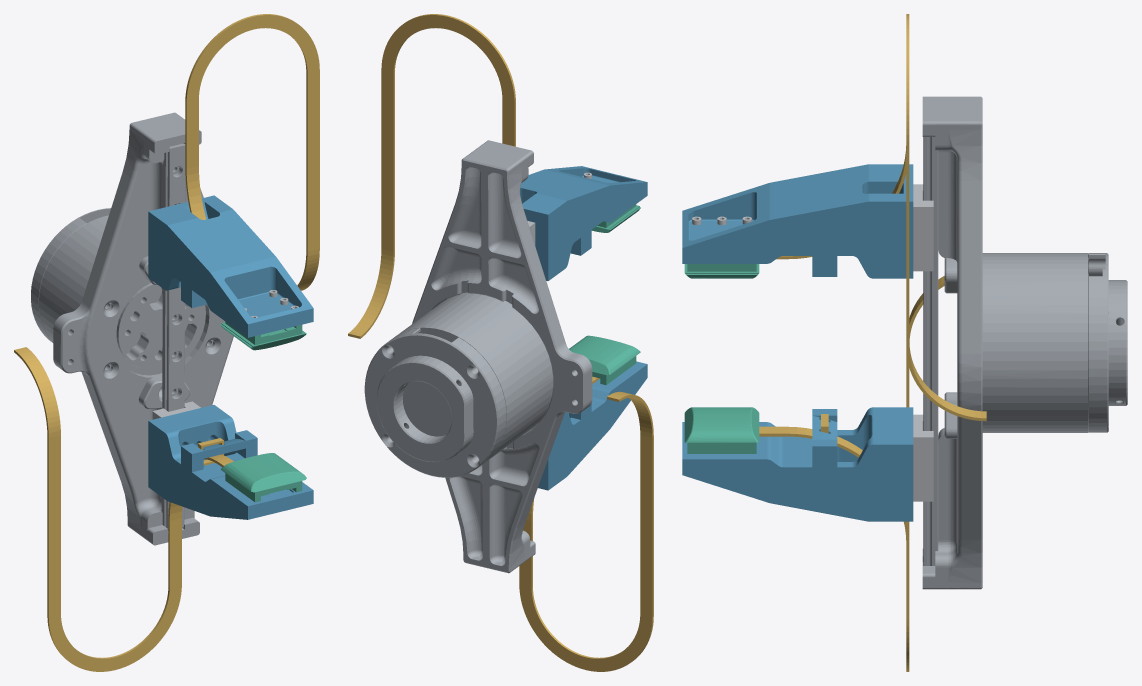
The model's file is assembly_open50.glb.
3 views of the same model, side by side, from view 1: azimuth 30°, elevation 25°; view 2: azimuth 150°, elevation 25°; view 3: azimuth 270°, elevation 25° (orthographic). The views are drawn at different scales.
Parts seen in each view (by area): view 1: original_actuator_and_transmission, replacement_finger_2, replacement_finger_1, service_loop_envelope_1, service_loop_envelope_2, M2324_1, M2324_2, moving_harness_envelope_2; view 2: original_actuator_and_transmission, replacement_finger_2, service_loop_envelope_2, service_loop_envelope_1, replacement_finger_1, M2324_1; view 3: original_actuator_and_transmission, replacement_finger_2, replacement_finger_1, M2324_1, service_loop_envelope_2, retained_carrier_2, retained_carrier_1, M2324_2, service_loop_envelope_1, moving_harness_envelope_1.
Part boxes in pixels (x1,y1,x2,y2): original_actuator_and_transmission: [31, 112, 233, 545]; replacement_finger_2: [148, 195, 313, 337]; replacement_finger_1: [148, 405, 313, 519]; service_loop_envelope_1: [14, 347, 181, 671]; service_loop_envelope_2: [185, 14, 319, 290]; M2324_1: [221, 453, 306, 502]; M2324_2: [220, 321, 306, 350]; moving_harness_envelope_2: [185, 166, 206, 219]; original_actuator_and_transmission: [364, 140, 592, 573]; replacement_finger_2: [520, 166, 647, 280]; service_loop_envelope_2: [348, 14, 515, 338]; service_loop_envelope_1: [519, 391, 653, 671]; replacement_finger_1: [538, 361, 647, 490]; M2324_1: [569, 335, 640, 384]; original_actuator_and_transmission: [922, 96, 1127, 589]; replacement_finger_2: [682, 164, 913, 278]; replacement_finger_1: [682, 407, 913, 521]; M2324_1: [684, 407, 759, 453]; service_loop_envelope_2: [906, 14, 986, 421]; retained_carrier_2: [913, 184, 933, 271]; retained_carrier_1: [913, 414, 933, 501]; M2324_2: [684, 264, 759, 278]; service_loop_envelope_1: [906, 276, 944, 671]; moving_harness_envelope_1: [759, 426, 909, 543].
Bounding box in the file's own units: 0.1152 × 0.2516 × 0.1412.
